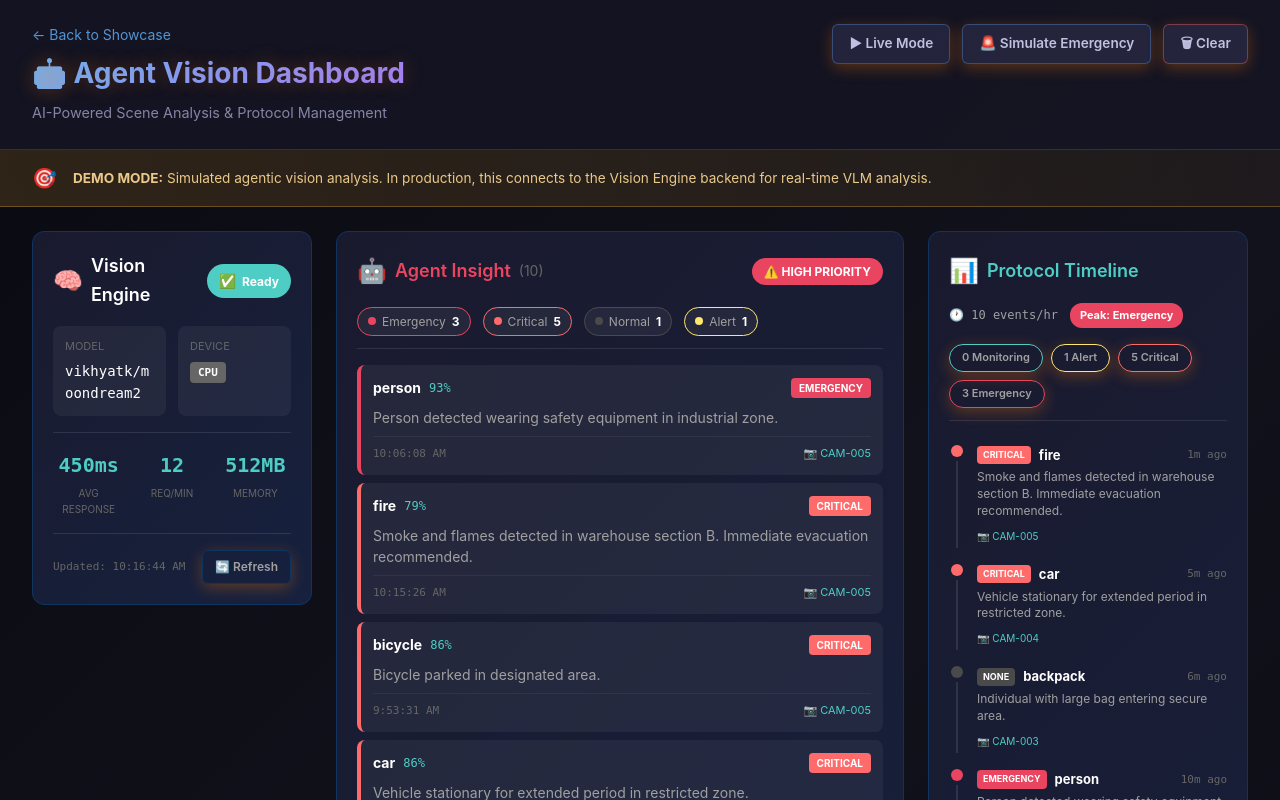
Scenario: AgentVisionDashboard › emergency simulation › creates emergency insight on button click
Step 1. Click the button with test id "simulate-emergency" → (1057, 44), box [962,24,1151,64]
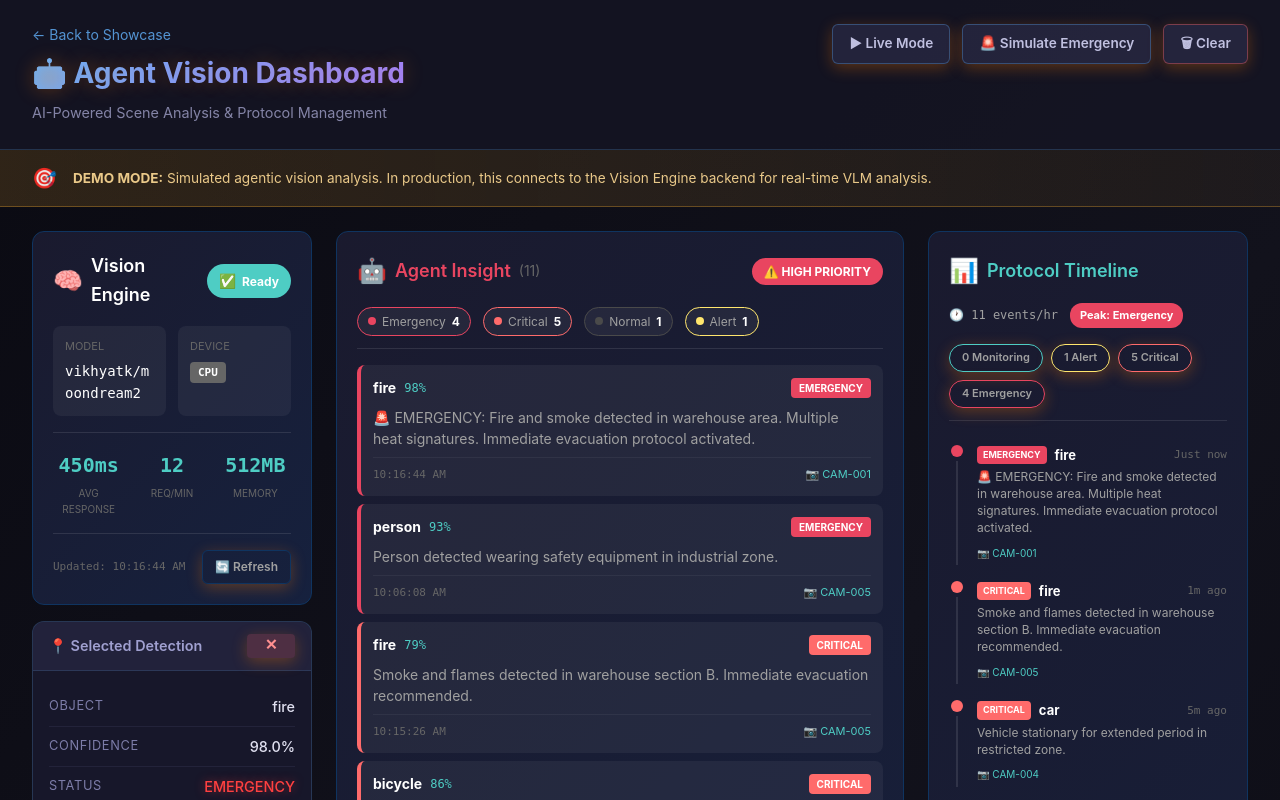
expect the text "EMERGENCY" next to "Status" is shown: met, box [204,778,295,795]
